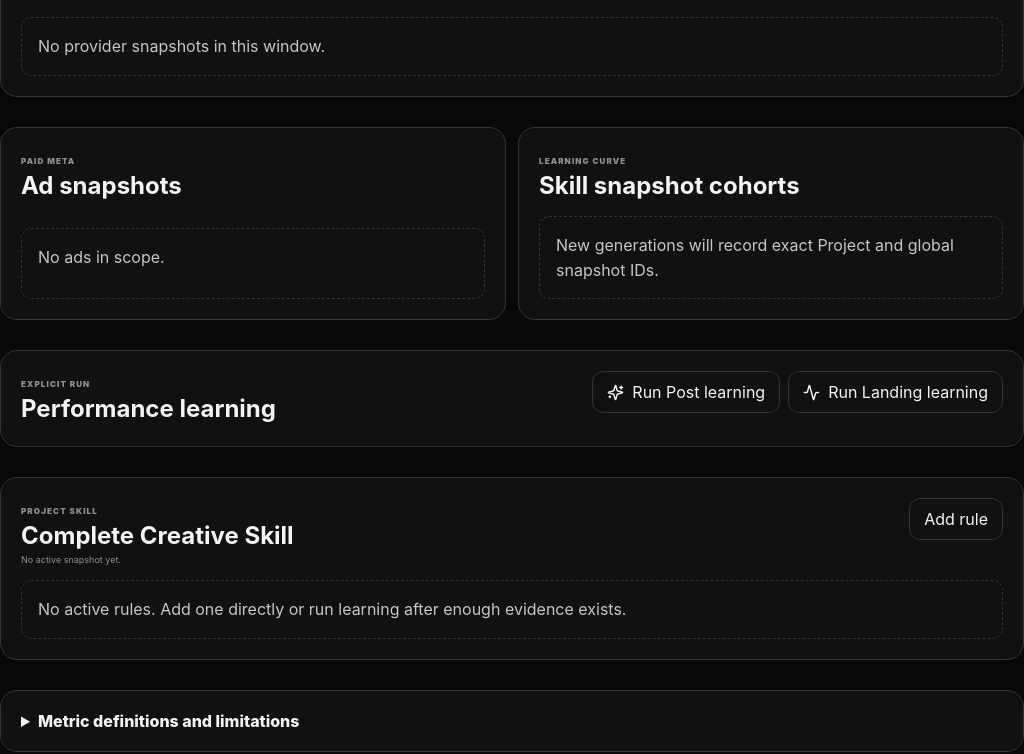
Test: keeps exact-target rule families on one concrete surface
(page scrolled)
Check: the text "No active rules. Add one directly or run learning after enough evidence exists." is shown, box x1=21 y1=580 x2=1003 y2=639
Click the button "Add rule".
click(956, 519)  # box x1=909 y1=498 x2=1003 y2=540
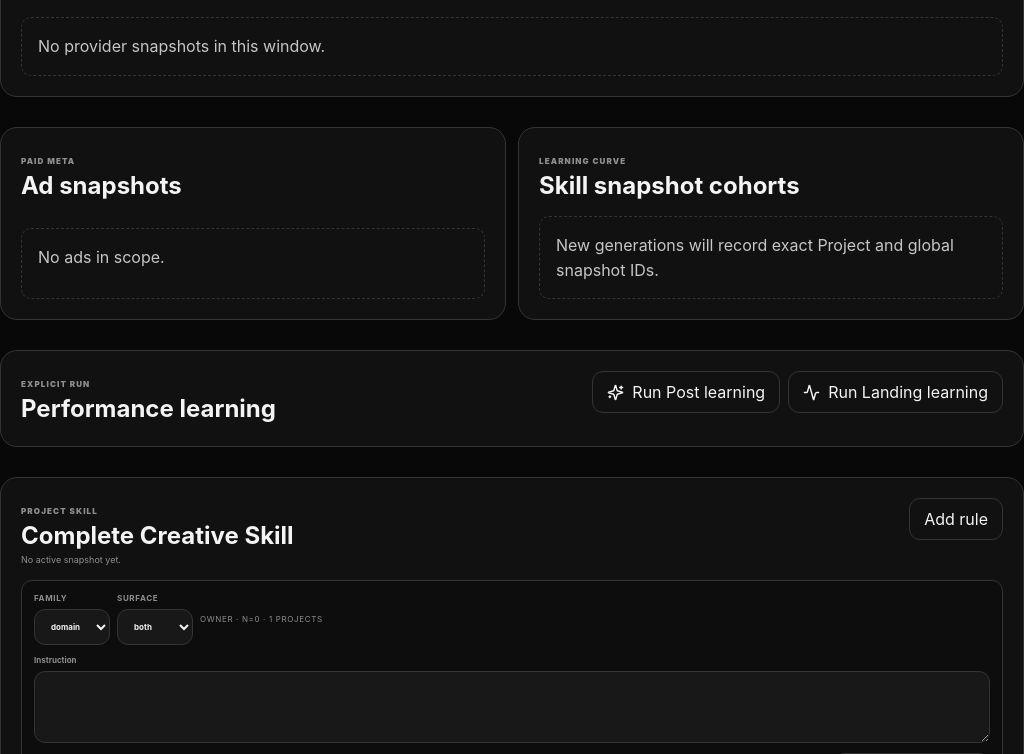
Check: the dropdown labelled "Surface" shows "both", box x1=117 y1=609 x2=193 y2=645
Select "ui" in the dropdown labelled "Family" at (72, 627), box x1=34 y1=609 x2=110 y2=645
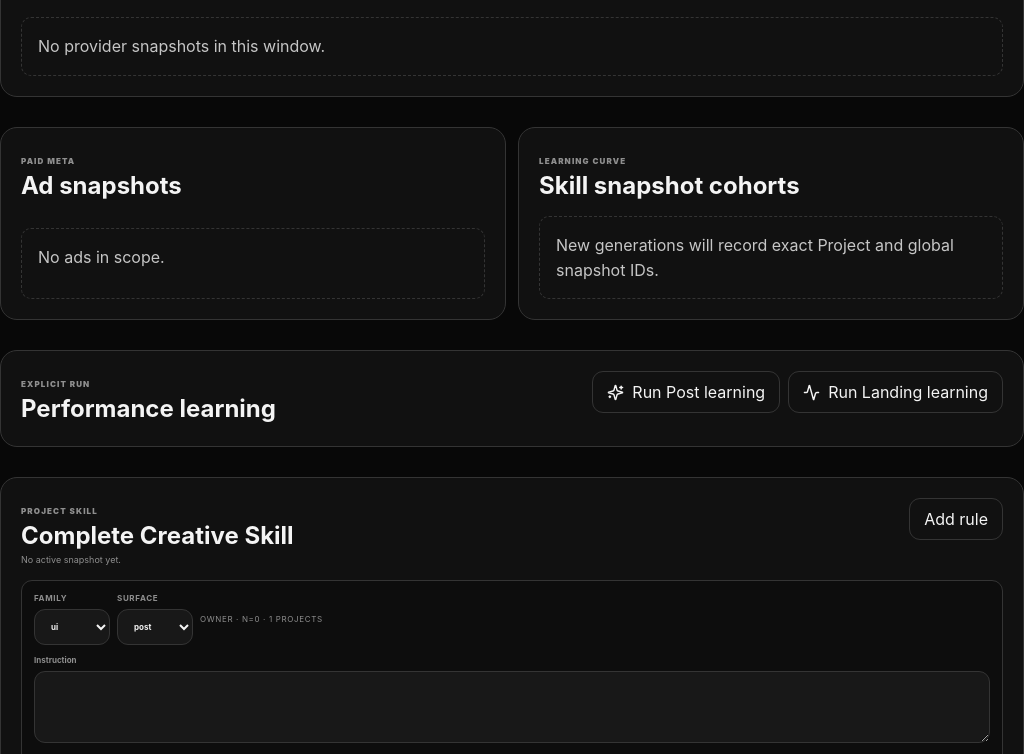
Check: the option "both" is not shown
Check: the dropdown labelled "Surface" shows "post", box x1=117 y1=609 x2=193 y2=645
